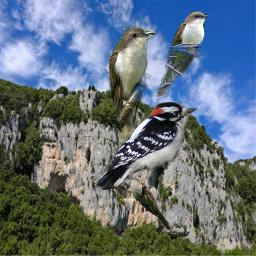Cuckoo: (109, 23, 156, 164), (154, 10, 209, 98), (130, 176, 171, 230)
Woodpecker: (92, 102, 197, 190)
